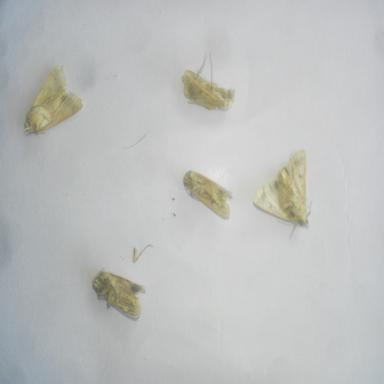abw: (249, 145, 316, 241), (21, 58, 87, 142), (178, 47, 239, 114), (89, 264, 148, 326), (180, 164, 234, 224)
